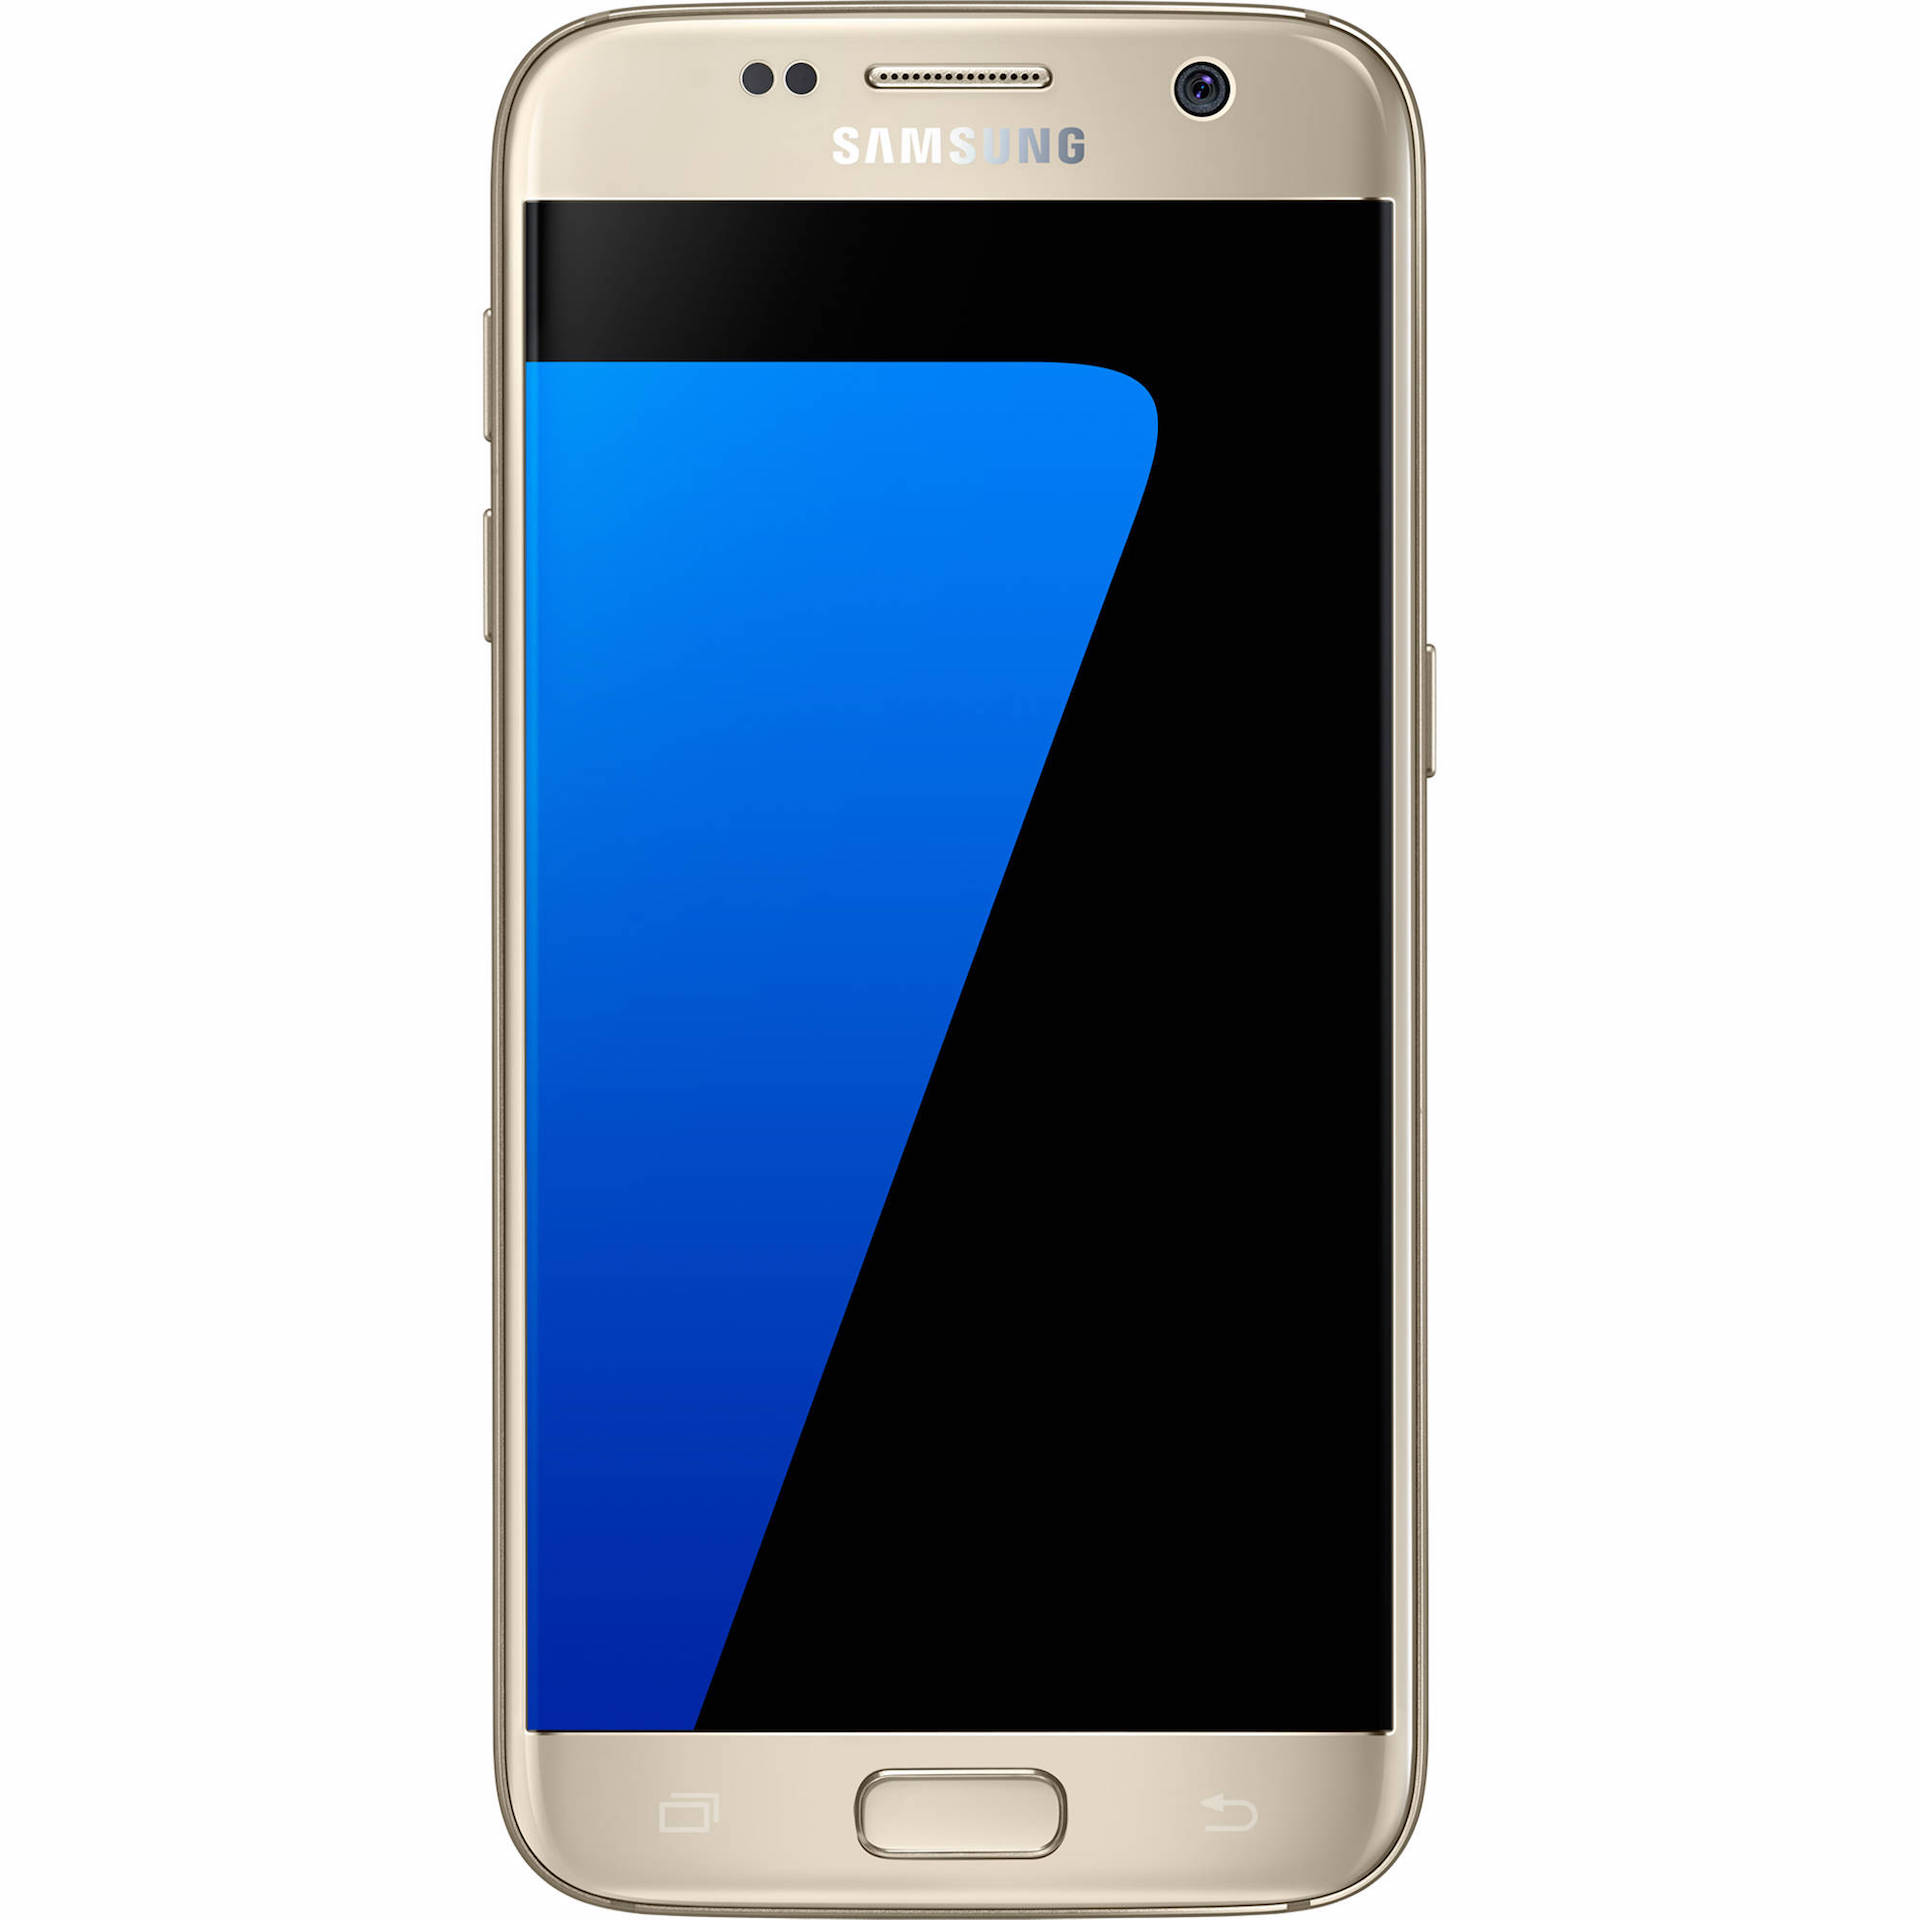smartphone: (480, 2, 1445, 1920)
